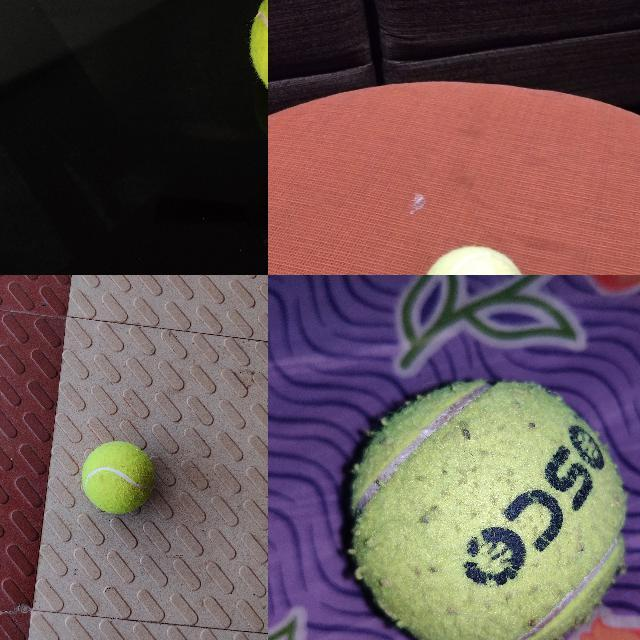tennis-ball: (351, 380, 628, 639), (82, 441, 155, 514), (418, 245, 531, 274)
